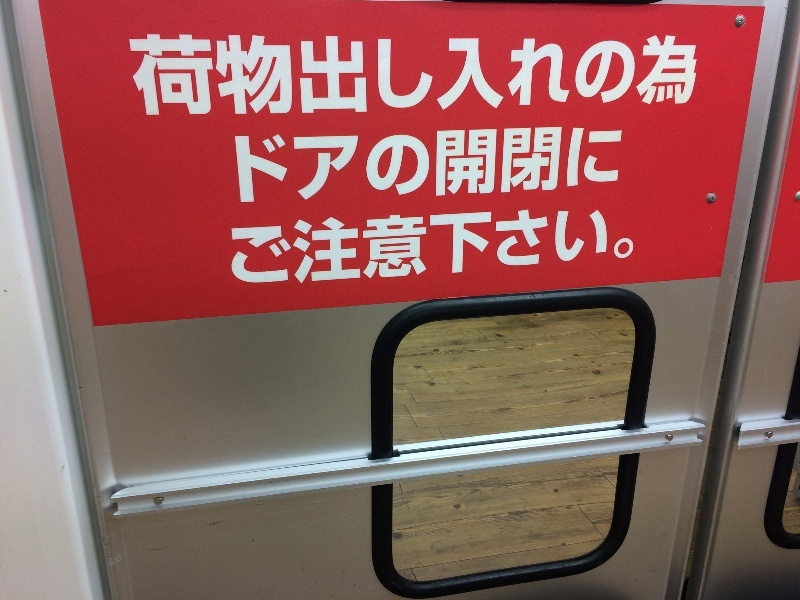text: (241, 203, 256, 293), (257, 203, 272, 293), (273, 203, 288, 293), (289, 203, 304, 293), (305, 203, 320, 293), (321, 203, 336, 293), (337, 203, 352, 293), (353, 203, 368, 293), (369, 203, 384, 293), (385, 203, 400, 293), (401, 203, 416, 293), (417, 203, 432, 293), (433, 203, 448, 293), (449, 203, 464, 293), (465, 203, 480, 293), (481, 203, 496, 293), (497, 203, 512, 293), (513, 203, 528, 293), (529, 203, 544, 293), (545, 203, 560, 293), (561, 203, 576, 293), (577, 203, 592, 293), (593, 203, 608, 293), (609, 203, 624, 293), (129, 35, 144, 117), (145, 35, 160, 117), (161, 35, 176, 117), (177, 35, 192, 117), (193, 35, 208, 117), (209, 35, 224, 117), (225, 35, 240, 117), (241, 35, 256, 117), (257, 35, 272, 117), (273, 35, 288, 117), (289, 35, 304, 117), (305, 35, 320, 117), (321, 35, 336, 117), (337, 35, 352, 117), (353, 35, 368, 117), (369, 35, 384, 117), (385, 35, 400, 117), (401, 35, 416, 117), (417, 35, 432, 117), (433, 35, 448, 117), (449, 35, 464, 117), (465, 35, 480, 117), (481, 35, 496, 117), (497, 35, 512, 117), (513, 35, 528, 117), (529, 35, 544, 117), (545, 35, 560, 117), (561, 35, 576, 117), (577, 35, 592, 117), (593, 35, 608, 117), (609, 35, 624, 117), (625, 35, 640, 117), (641, 35, 656, 117), (657, 35, 672, 117), (673, 35, 688, 117), (689, 35, 704, 117), (241, 127, 256, 208), (257, 127, 272, 208), (273, 127, 288, 208), (289, 127, 304, 208), (305, 127, 320, 208), (321, 127, 336, 208), (337, 127, 352, 208), (353, 127, 368, 208), (369, 127, 384, 208), (385, 127, 400, 208), (401, 127, 416, 208), (417, 127, 432, 208), (433, 127, 448, 208), (449, 127, 464, 208), (465, 127, 480, 208), (481, 127, 496, 208), (497, 127, 512, 208), (513, 127, 528, 208), (529, 127, 544, 208), (545, 127, 560, 208), (561, 127, 576, 208), (577, 127, 592, 208), (593, 127, 608, 208), (609, 127, 624, 208), (625, 203, 638, 293), (231, 203, 240, 293), (234, 127, 240, 208)
